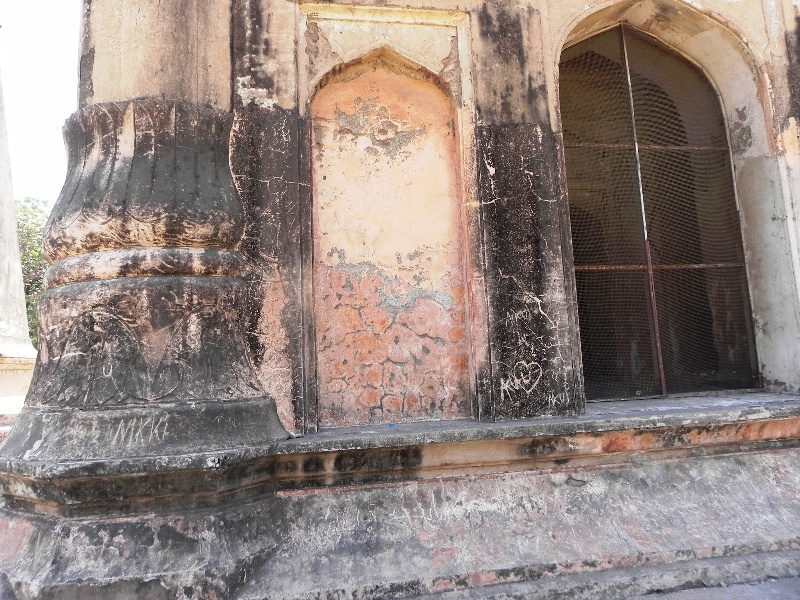Spalling: (333, 255, 381, 282)
